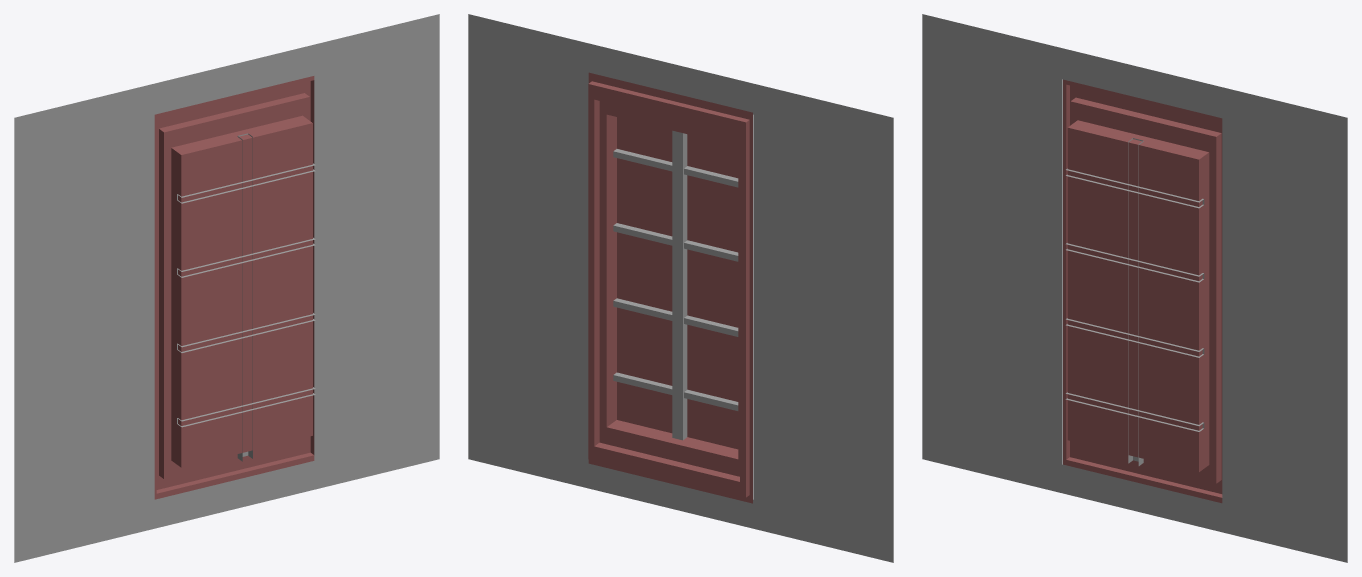
The model's file is 3x3OldLargeWindow.fbx.
The picture shows the model from 3 angles, left to right: view 1: azimuth 30°, elevation 25°; view 2: azimuth 150°, elevation 25°; view 3: azimuth 330°, elevation 25°; orthographic projection.
Parts seen in each view (by area): view 1: pCube61; view 2: pCube61; view 3: pCube61.
Boxes of the visible parts, bbox=[...] form: pCube61: bbox=[14, 14, 439, 562]; pCube61: bbox=[468, 14, 893, 562]; pCube61: bbox=[922, 14, 1347, 562].
Size of the model in its own units: 3 by 3 by 0.2041.
